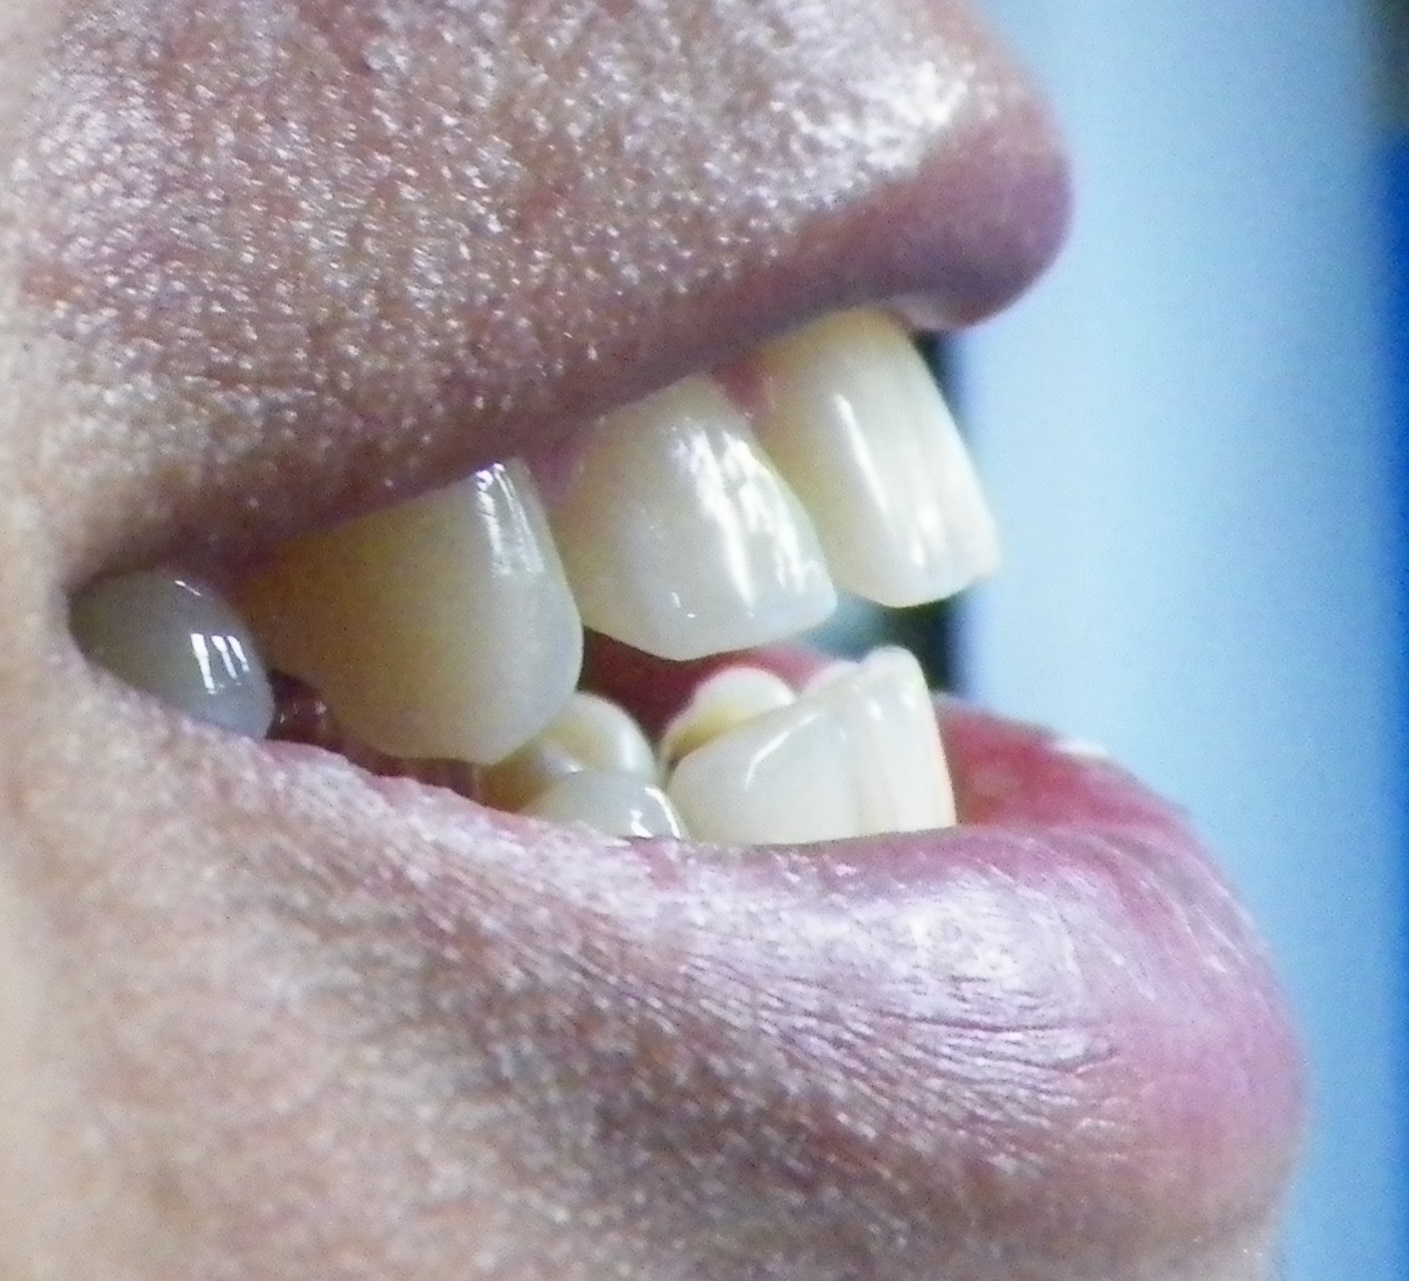boca: (96, 303, 986, 860)
